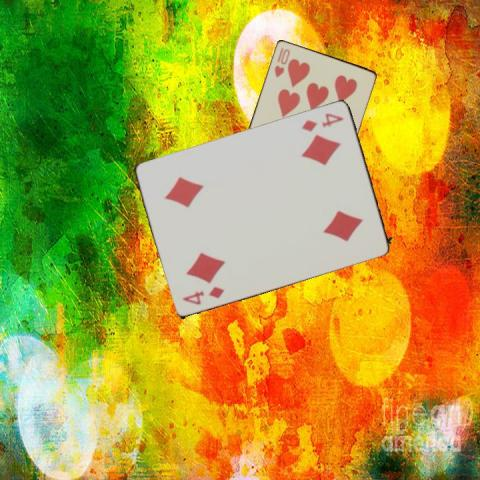10h: (271, 44, 292, 78)
4d: (298, 109, 345, 133), (179, 283, 226, 306)
